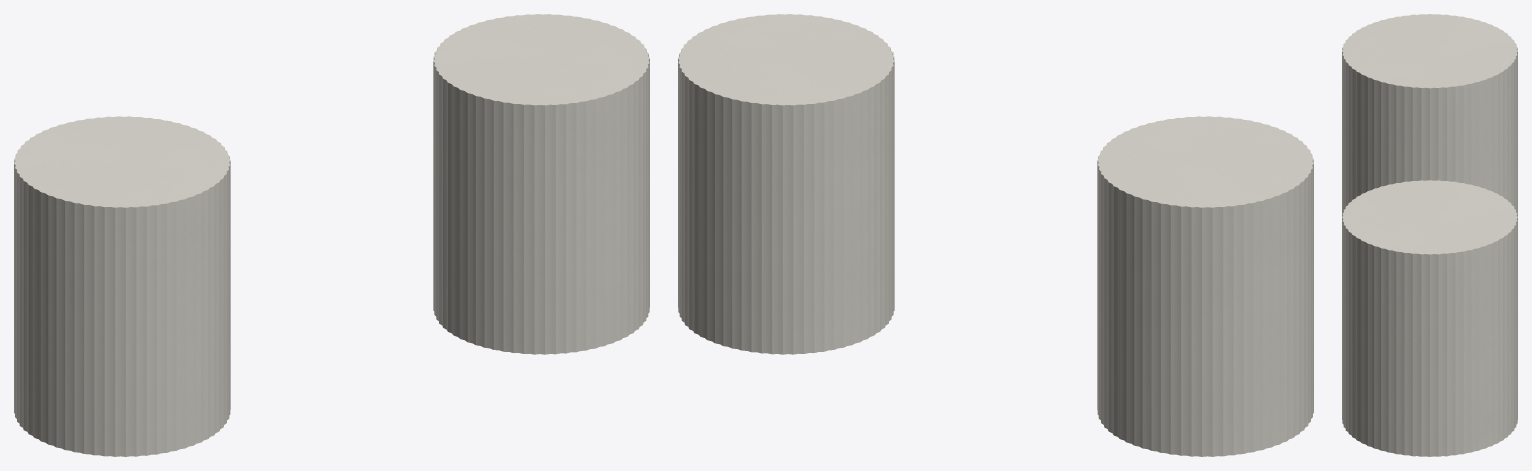
File: pale_danish_standard_ripplesecond.glb
The picture shows the model from 3 angles, left to right: view 1: azimuth 30°, elevation 25°; view 2: azimuth 150°, elevation 25°; view 3: azimuth 270°, elevation 25°; orthographic projection. The views are drawn at different scales.
Parts seen in each view (by area): view 1: ripplesecond; view 2: ripplesecond; view 3: ripplesecond.
Boxes of the visible parts, <box> form: ripplesecond: <box>14,14,649,456</box>; ripplesecond: <box>678,14,1313,456</box>; ripplesecond: <box>1342,14,1517,456</box>.
Size of the model in its own units: 6.22 by 2.44 by 1.92.
Materials: 1 (1 with a texture image).
